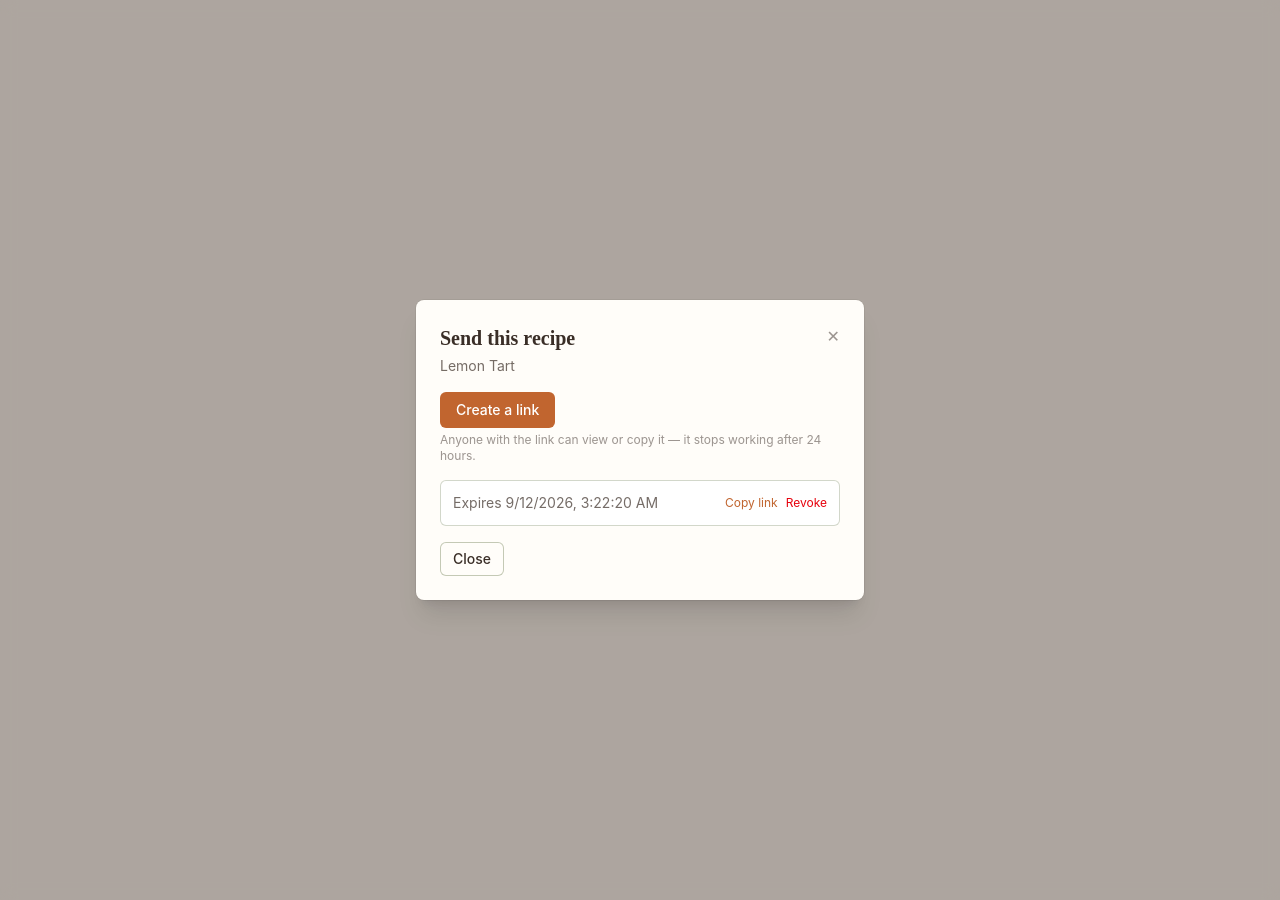
ShareRecipeDialog › copies the share link and shows a confirmation
The width and height of the screenshot is (1280, 900).
Click the button "Copy link": (751, 503) [725,495,778,511]
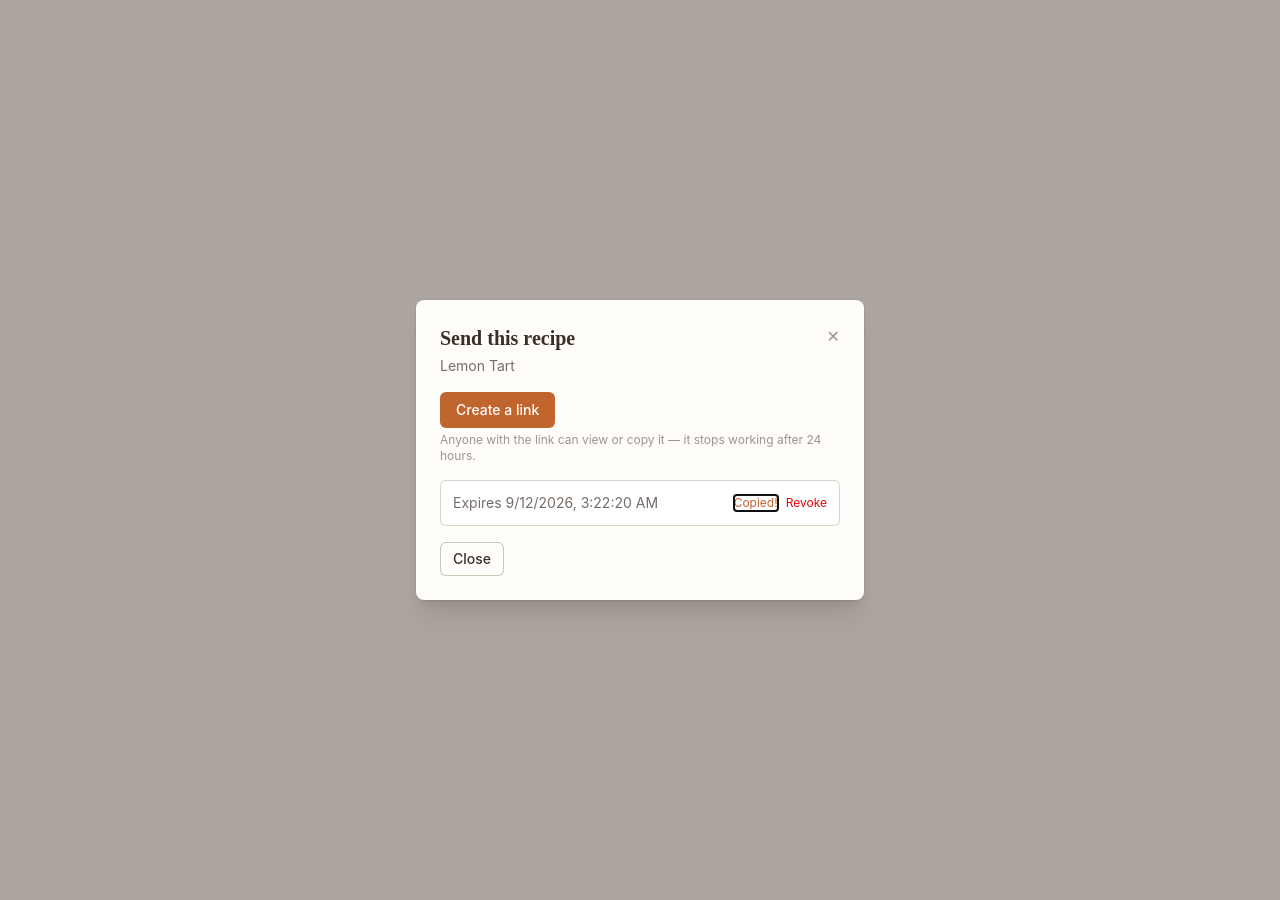
Expected: the button "Copied!" is shown, [734,495,778,511]
